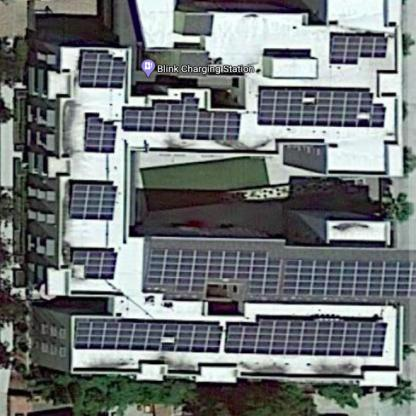solar_panel: (147, 241, 416, 305), (223, 306, 389, 366), (251, 79, 392, 133), (115, 93, 247, 149), (71, 316, 225, 359), (66, 172, 127, 228), (317, 27, 389, 72), (74, 46, 126, 96), (69, 236, 120, 286), (83, 102, 121, 159)
